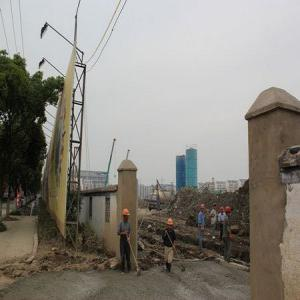red: (225, 206, 232, 216), (200, 204, 206, 213), (220, 207, 225, 215)
yellow: (122, 209, 130, 222), (167, 218, 174, 230)
